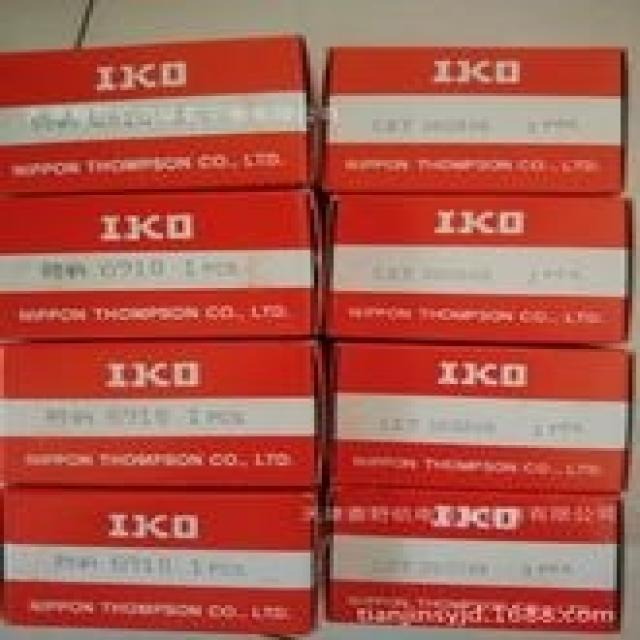box: (0, 180, 326, 340), (0, 35, 318, 195), (0, 483, 326, 634), (0, 337, 326, 486), (326, 340, 632, 495), (322, 195, 632, 346), (318, 47, 628, 195), (322, 486, 624, 634)
